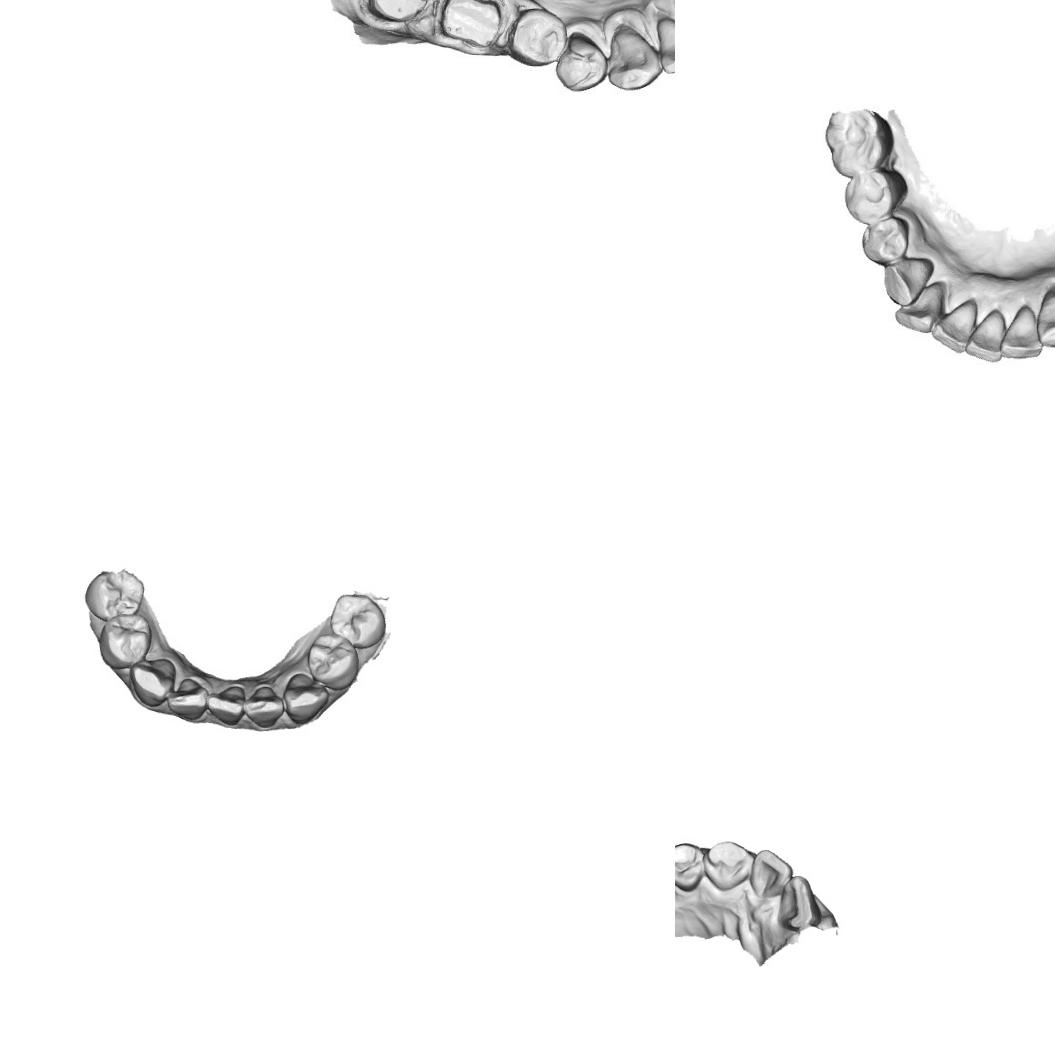canine: (602, 16, 662, 95), (701, 838, 756, 892), (880, 257, 935, 308), (282, 672, 330, 726), (127, 656, 176, 708), (1036, 290, 1055, 349)
crown: (436, 0, 503, 51), (369, 0, 431, 25)
incisor: (775, 874, 824, 933), (892, 283, 946, 334), (998, 306, 1044, 364), (928, 300, 976, 354), (748, 847, 794, 902), (964, 310, 1007, 366), (166, 676, 210, 721), (241, 684, 284, 730), (204, 680, 246, 726), (658, 10, 675, 72)
molar: (821, 106, 889, 176)
premolar: (840, 164, 908, 224), (504, 6, 566, 66), (550, 31, 608, 94), (83, 566, 146, 624), (328, 592, 389, 649), (304, 633, 361, 691), (97, 611, 153, 670), (856, 217, 912, 267), (675, 840, 707, 893)
